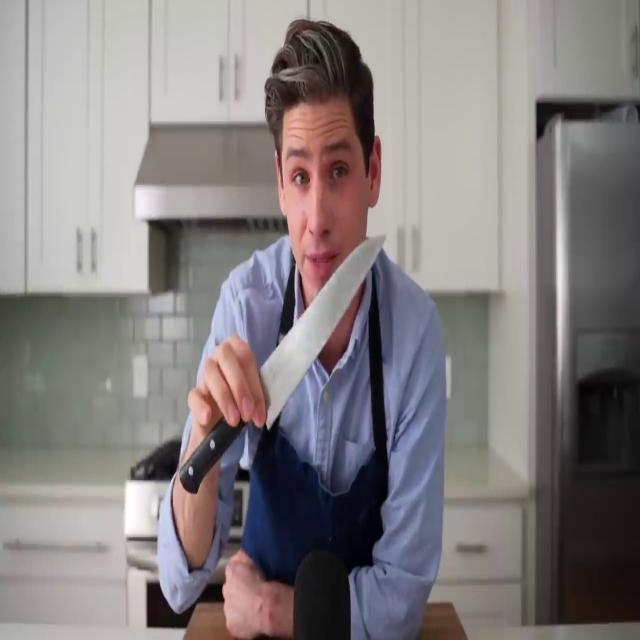Knife: (179, 231, 389, 503)
